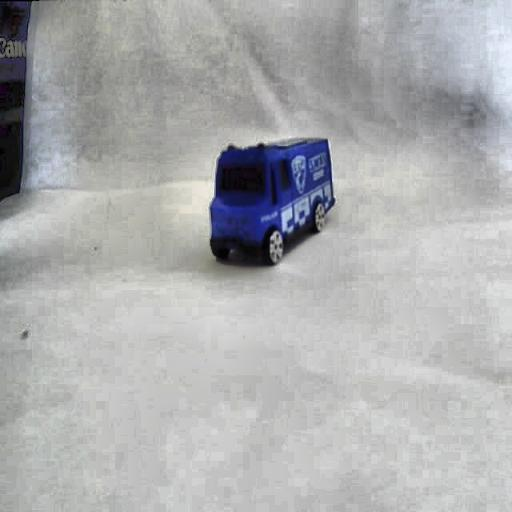police car: (208, 132, 335, 262)
